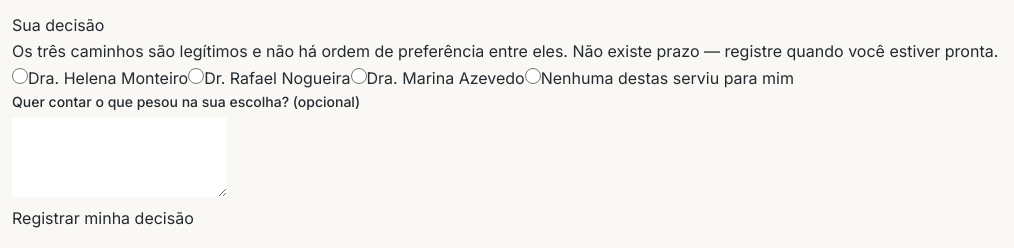
Test: B3-UI · a decisão da paciente › B3-UI-7 · o erro não finge sucesso › mostra mensagem humana e preserva a escolha dela
Click the radio button labelled "Dr. Rafael Nogueira": [196, 76] box [188,68,204,84]
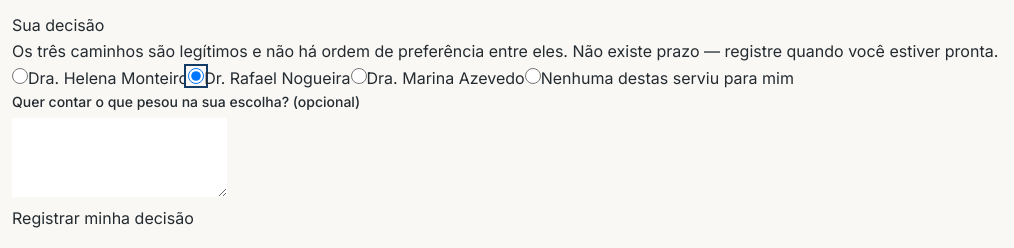
In the text box labelled "Quer contar o que pesou na sua escolha? (opcional)": [120, 158] box [12,118,227,197], type "Fica mais perto."
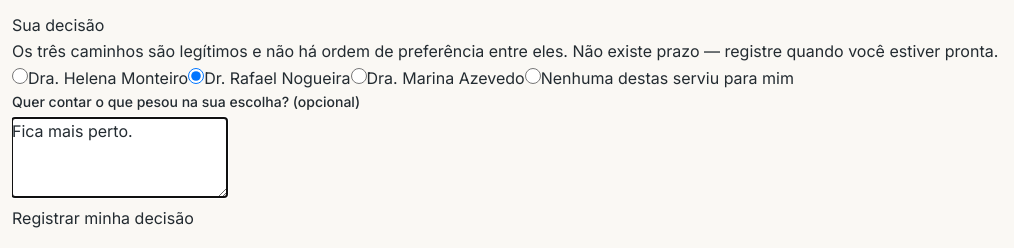
Click the button "Registrar minha decisão": [103, 218] box [12,205,194,231]
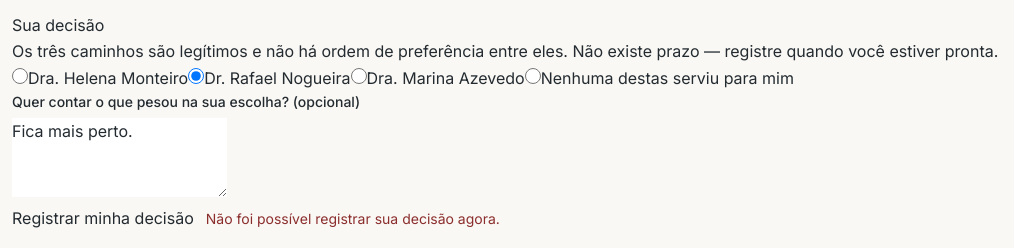
Expected: the radio button labelled "Dr. Rafael Nogueira" is checked, [188,68,204,84]
Expected: the message reads "Não foi possível registrar sua decisão agora.", [206,210,500,226]
